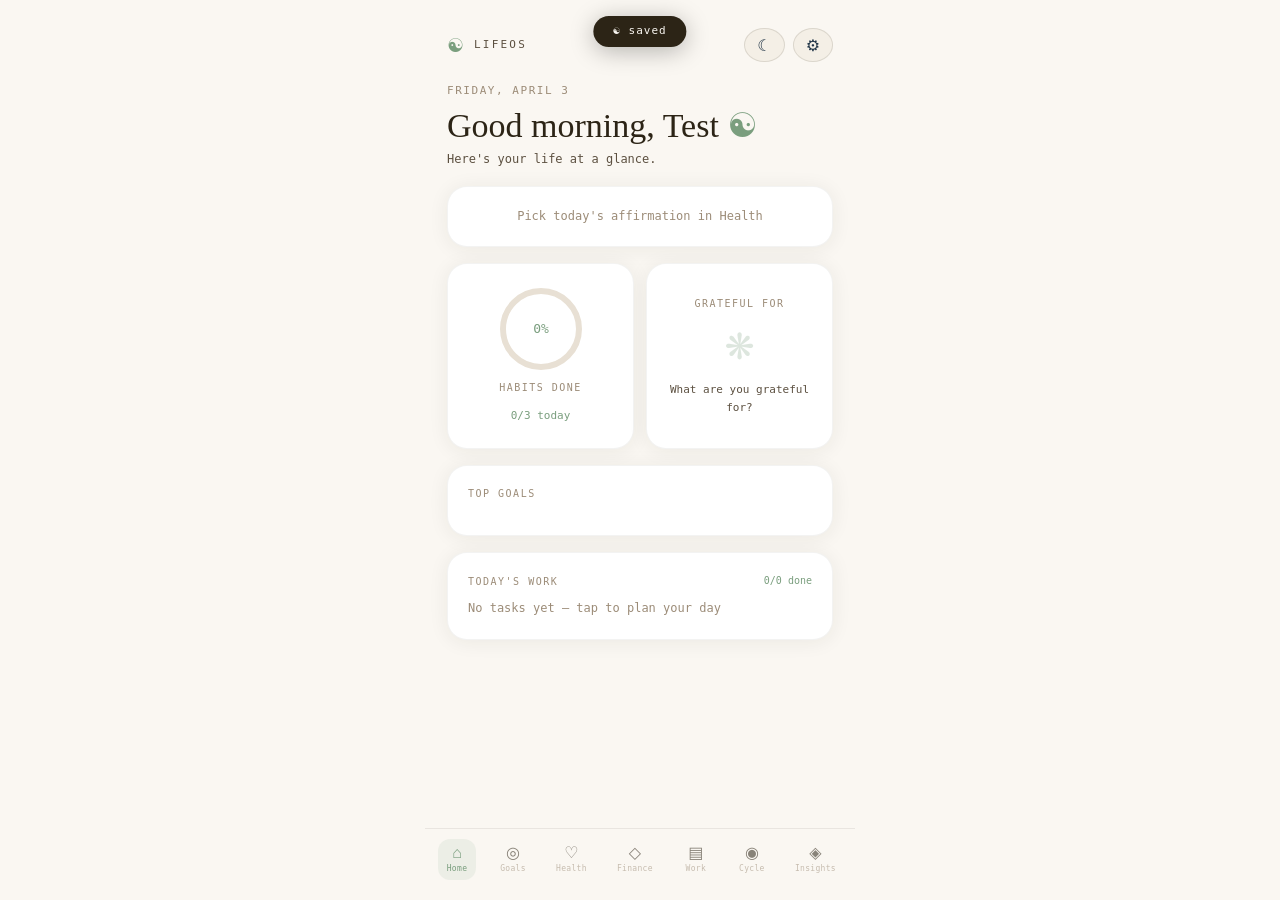
Test: LifeOS root shell › navigates between screens via bottom nav
expect the text "LifeOS" is shown: met, box [474, 37, 527, 53]
Navigate to Goals
Click the text "Goals". click: click(513, 869)
box: [500, 863, 526, 875]
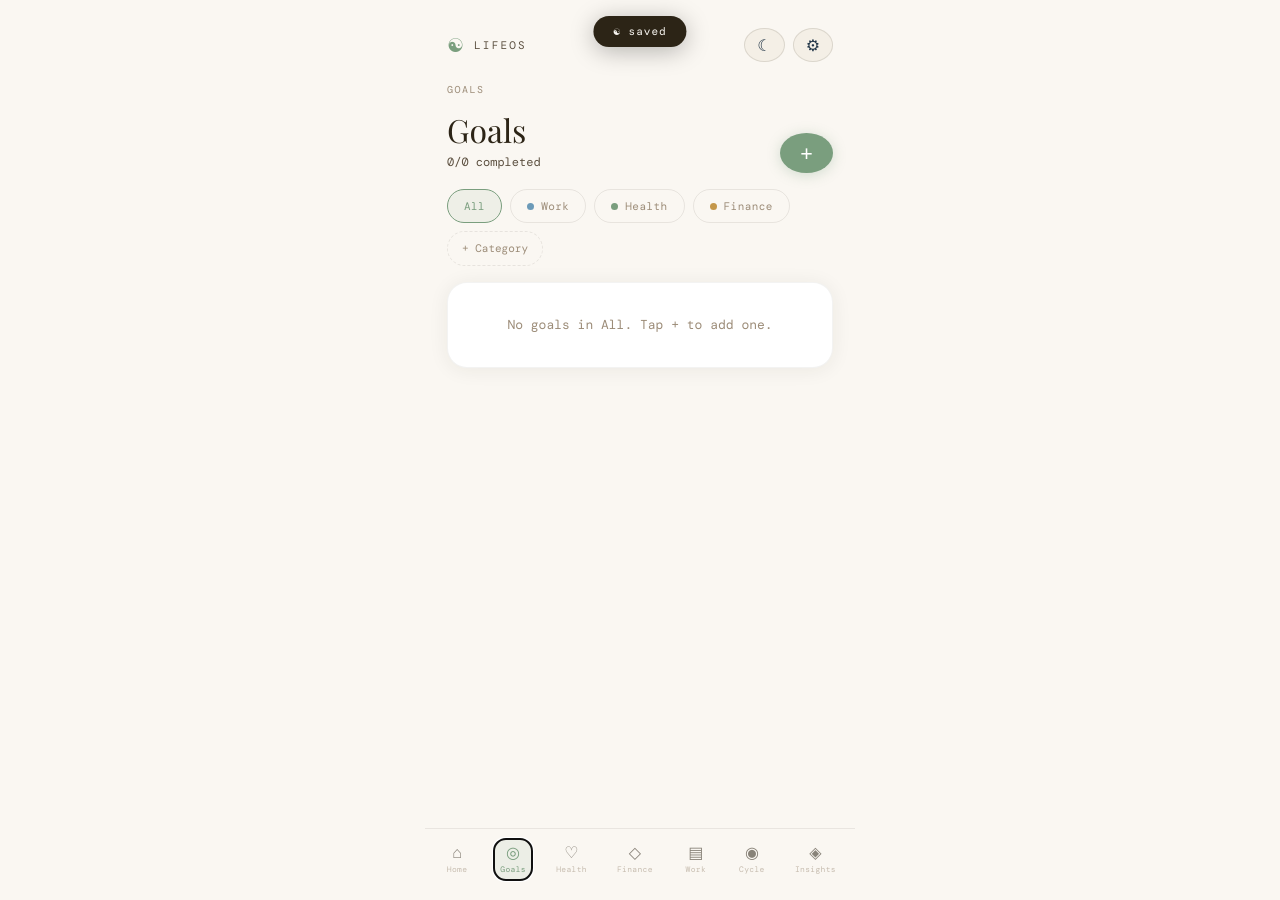
expect the text "0/0 completed" is shown: met, box [447, 153, 541, 173]
Navigate to Health via its unique nav icon
Click the text "♡". click: click(571, 852)
box: [564, 844, 579, 860]
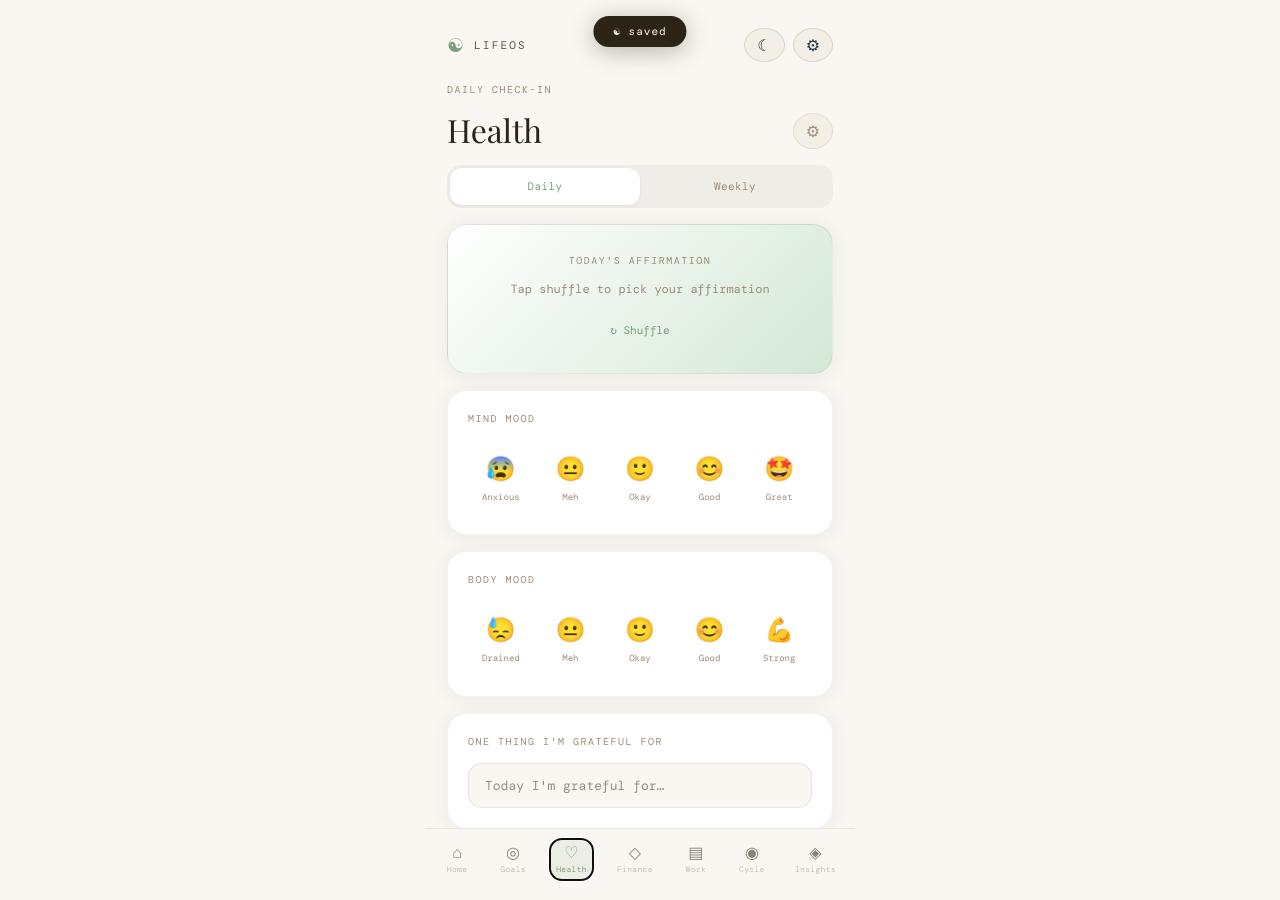
expect the button "Daily" is shown: met, box [450, 168, 640, 205]
expect the button "Weekly" is shown: met, box [640, 168, 830, 205]
